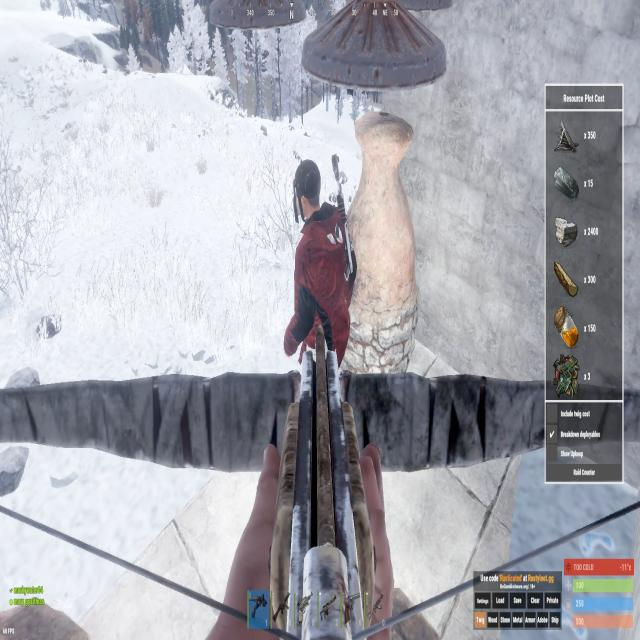Player: (283, 153, 358, 377)
